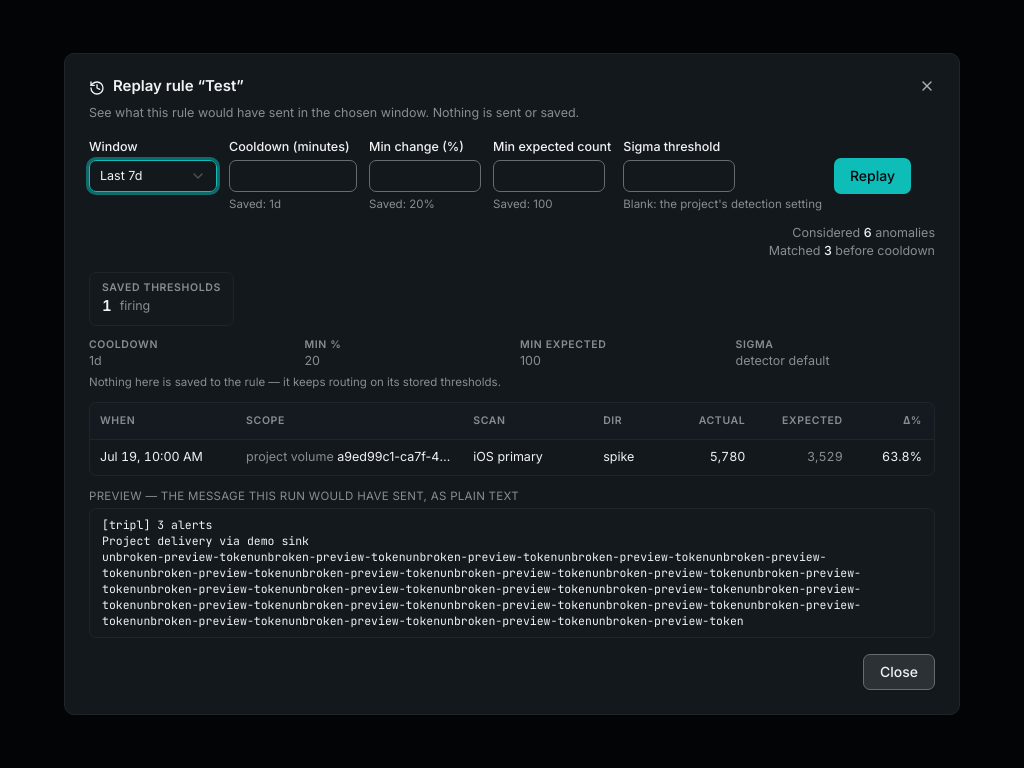
Test: RuleReplayDialog threshold overrides › refuses to replay sigma 0, because the route rejects it with gt=0
The width and height of the screenshot is (1024, 768).
Expected: the text "Saved thresholds" is shown, [102,281,221,295]
In the number field labelled "Sigma threshold": [679, 176] box [623,160,735,192], type "0"
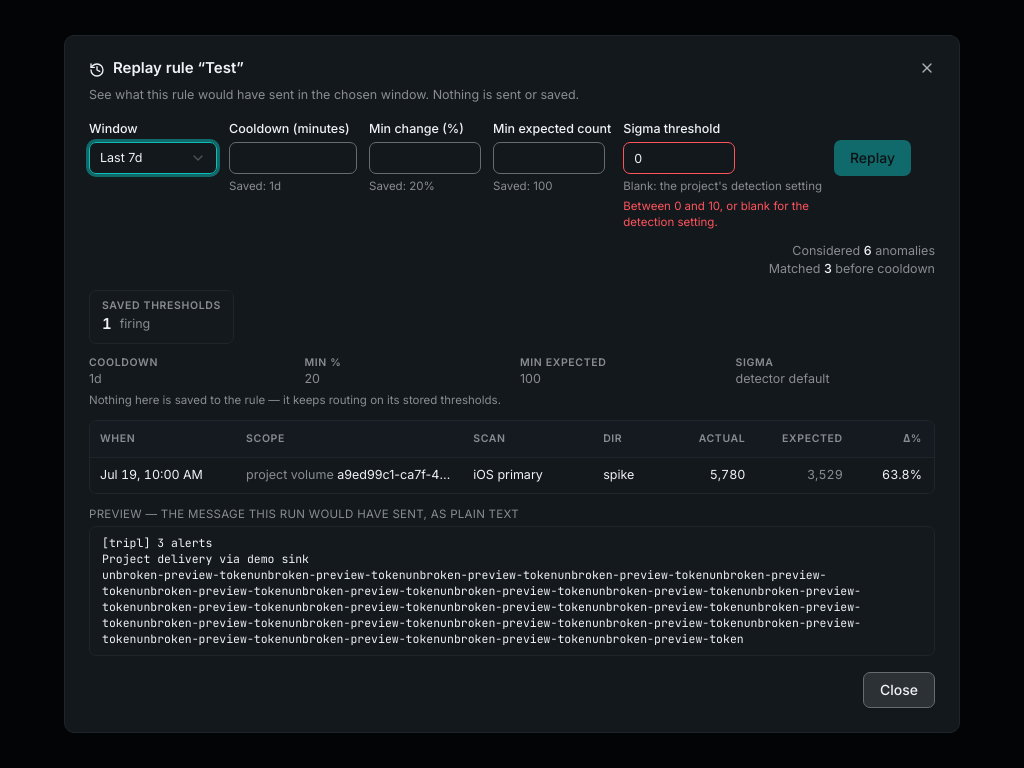
Result: the message shows "Between 0 and 10" at [623,199,809,229]
Result: the button "Replay" is disabled at [834,140,911,176]
